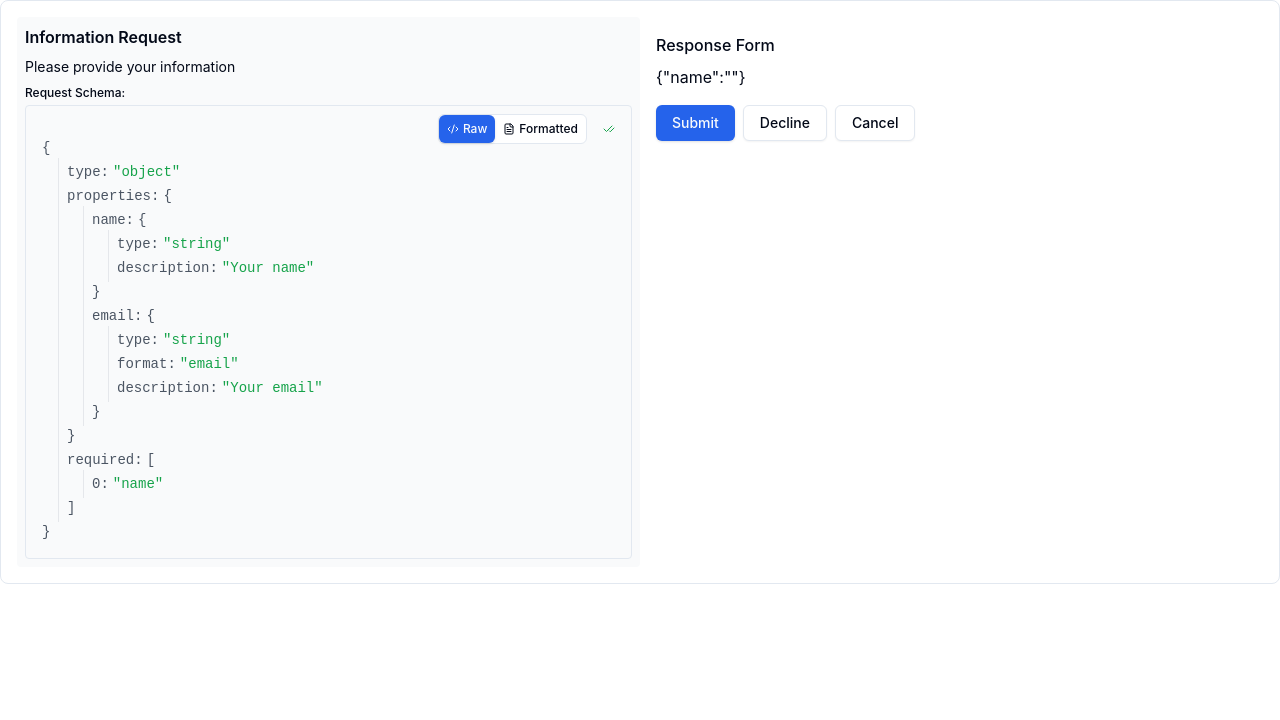
Test: ElicitationRequest › Form Validation › should show validation error for missing required fields
Click the button "Submit" at (695,123), box [656,105,735,141]
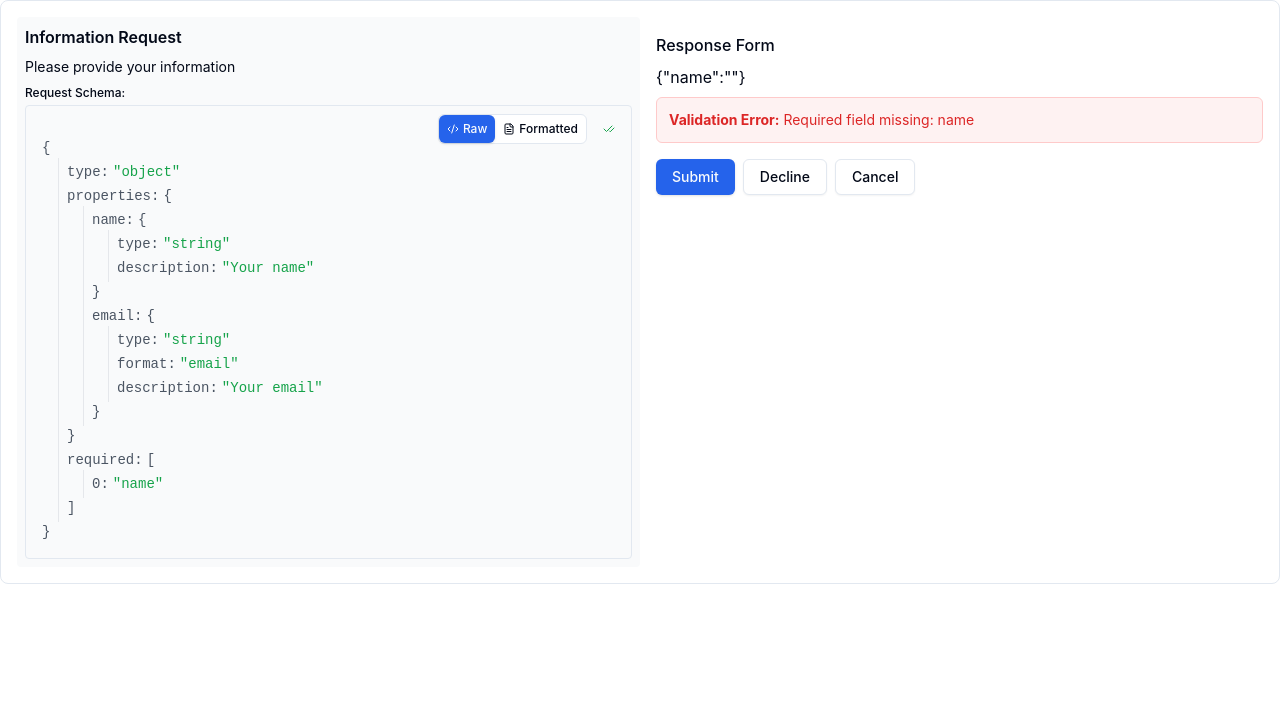
Expected: the text "Validation Error: Required field missing: name" is shown, [669,111,974,128]
